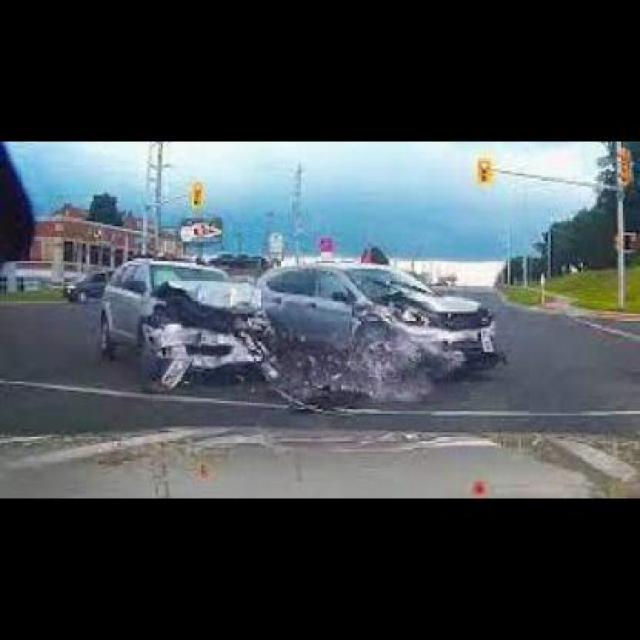accident: (102, 249, 496, 385)
